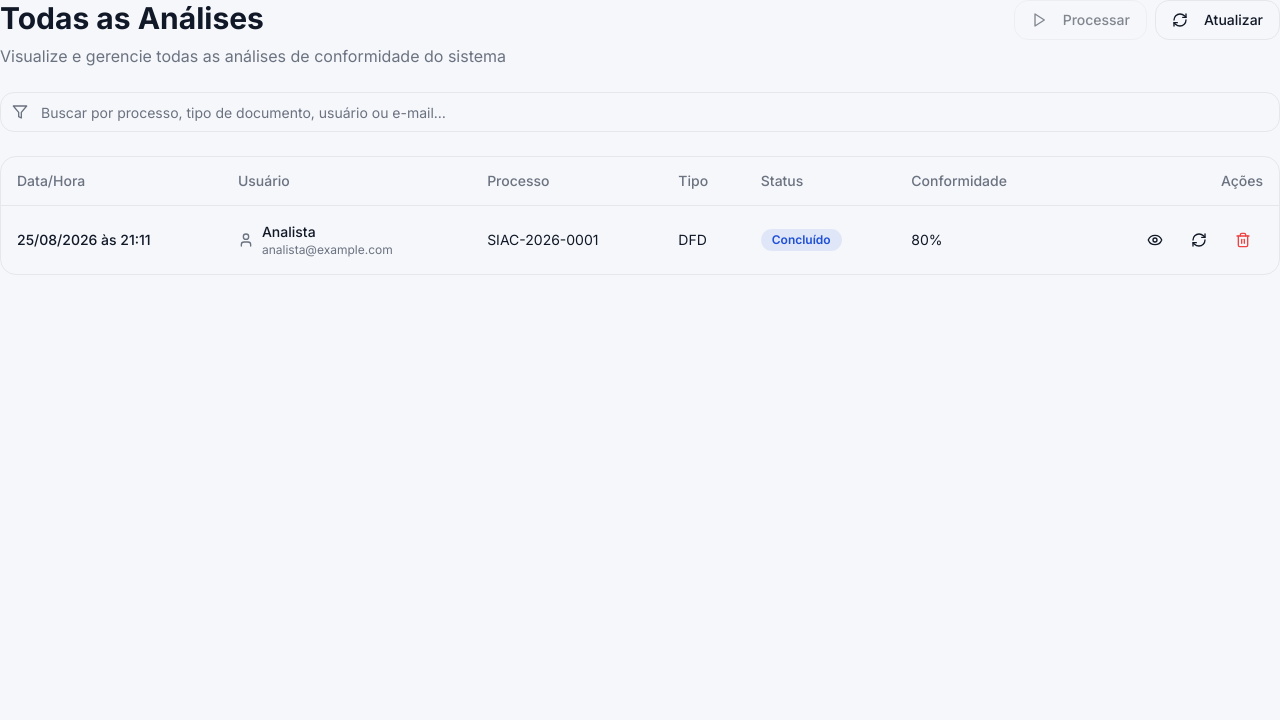
Test: AllAnalyses — impressão do relatório › marca o DialogContent do relatório com data-print-area, para o CSS de impressão isolar só ele
The image size is (1280, 720).
Click the button titled "Ver relatório" at {"x": 1155, "y": 240}, box [1135,222,1175,258]
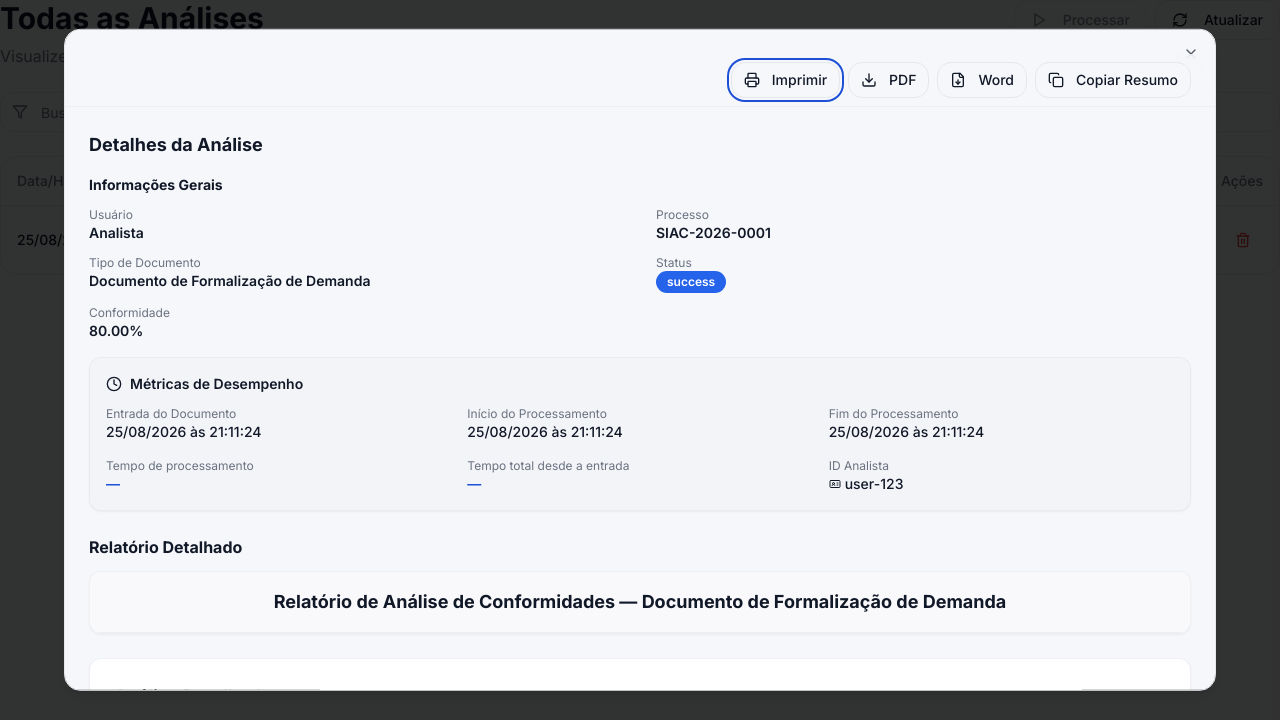
Expected: the dialog is shown
